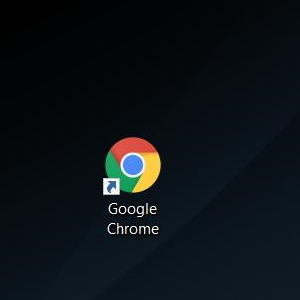chrome: (102, 136, 161, 195)
